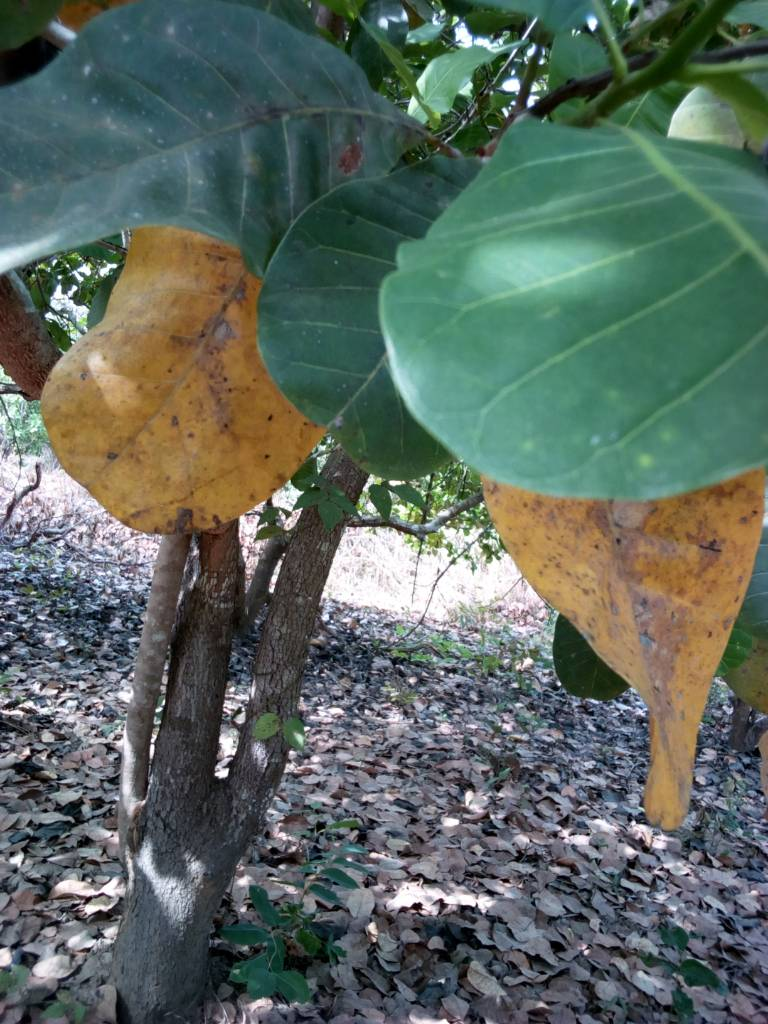Bactériose: (490, 500, 768, 828), (41, 269, 271, 538)
